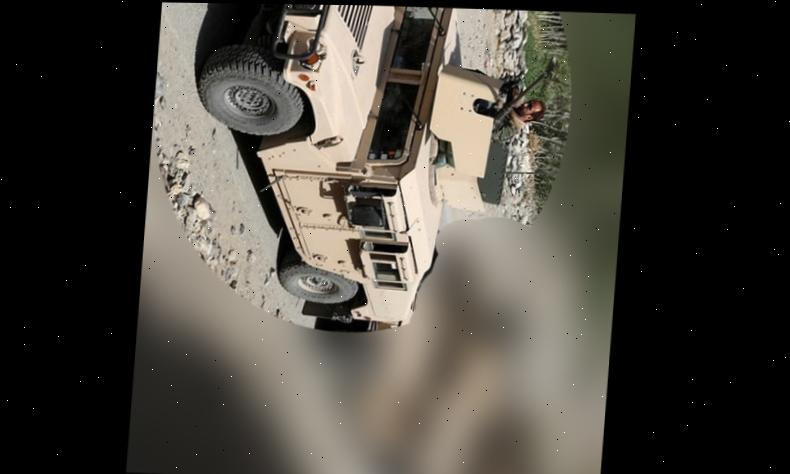armored_car: (177, 3, 525, 340)
